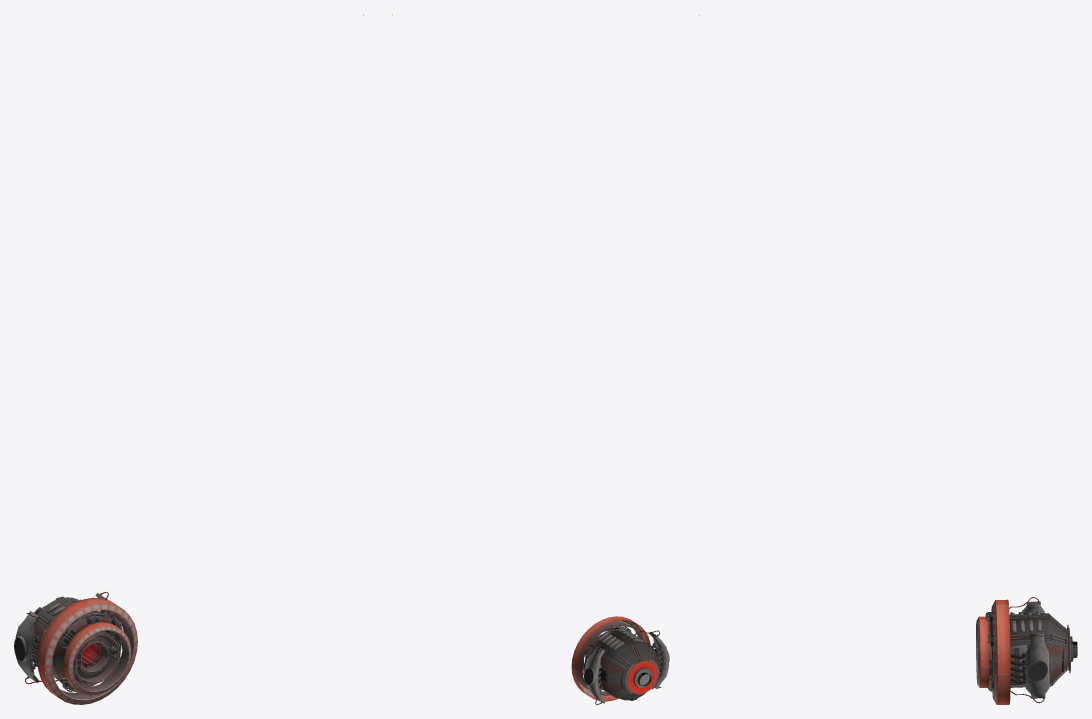
File: astro_core.glb
3 renders of one model, left to right at view 1: azimuth 30°, elevation 25°; view 2: azimuth 210°, elevation 25°; view 3: azimuth 270°, elevation 25°, orthographic. The views are drawn at different scales.
Visible parts, largest first — view 1: model.smd_material_0_1, Object_57_c3a2e_teleporter_top_002_0.001_29, Object_57_c3a2e_teleporter_top_002_0_28; view 2: model.smd_material_0_1, Object_57_c3a2e_teleporter_top_002_0.001_29; view 3: model.smd_material_0_1, Object_57_c3a2e_teleporter_top_002_0.001_29, Object_57_c3a2e_teleporter_top_002_0_28.
Part boxes in pixels (x1=…): model.smd_material_0_1: x1=14, y1=591, x2=122, y2=695; Object_57_c3a2e_teleporter_top_002_0.001_29: x1=37, y1=597, x2=137, y2=704; Object_57_c3a2e_teleporter_top_002_0_28: x1=63, y1=622, x2=131, y2=694; model.smd_material_0_1: x1=584, y1=626, x2=669, y2=704; Object_57_c3a2e_teleporter_top_002_0.001_29: x1=571, y1=616, x2=650, y2=701; model.smd_material_0_1: x1=985, y1=597, x2=1077, y2=703; Object_57_c3a2e_teleporter_top_002_0.001_29: x1=991, y1=599, x2=1063, y2=704; Object_57_c3a2e_teleporter_top_002_0_28: x1=976, y1=616, x2=991, y2=687.
Bounding box in the file's own units: 239 × 1037 × 481.
Materials: 4 (3 with a texture image).
